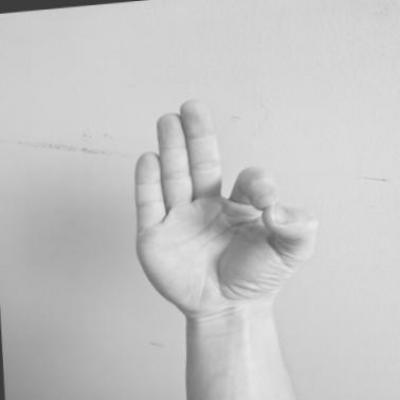hand: (121, 86, 333, 329)
